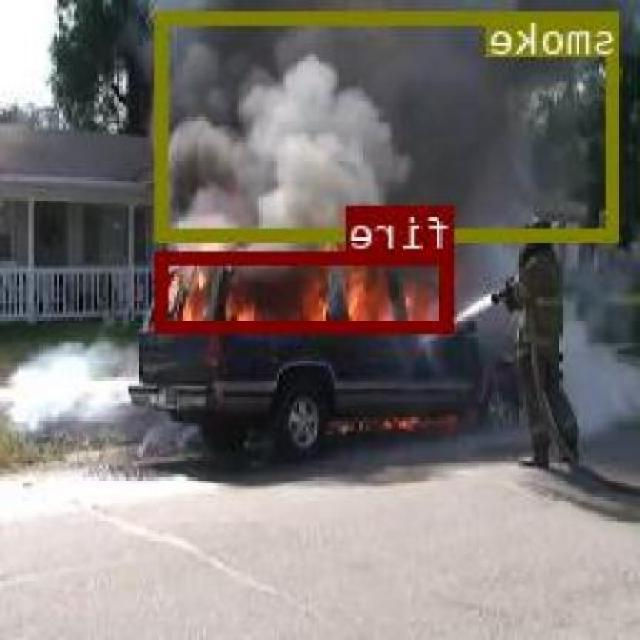Fire: (158, 250, 456, 330)
Smoke: (158, 8, 620, 240)
